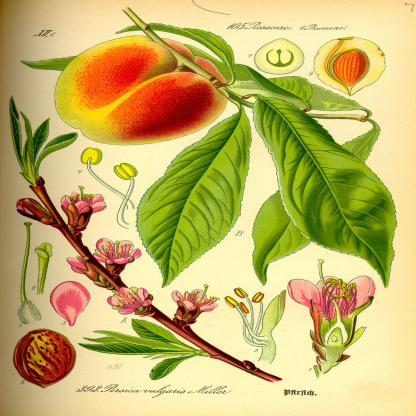peach leaf: (244, 91, 399, 287), (132, 103, 254, 290)
